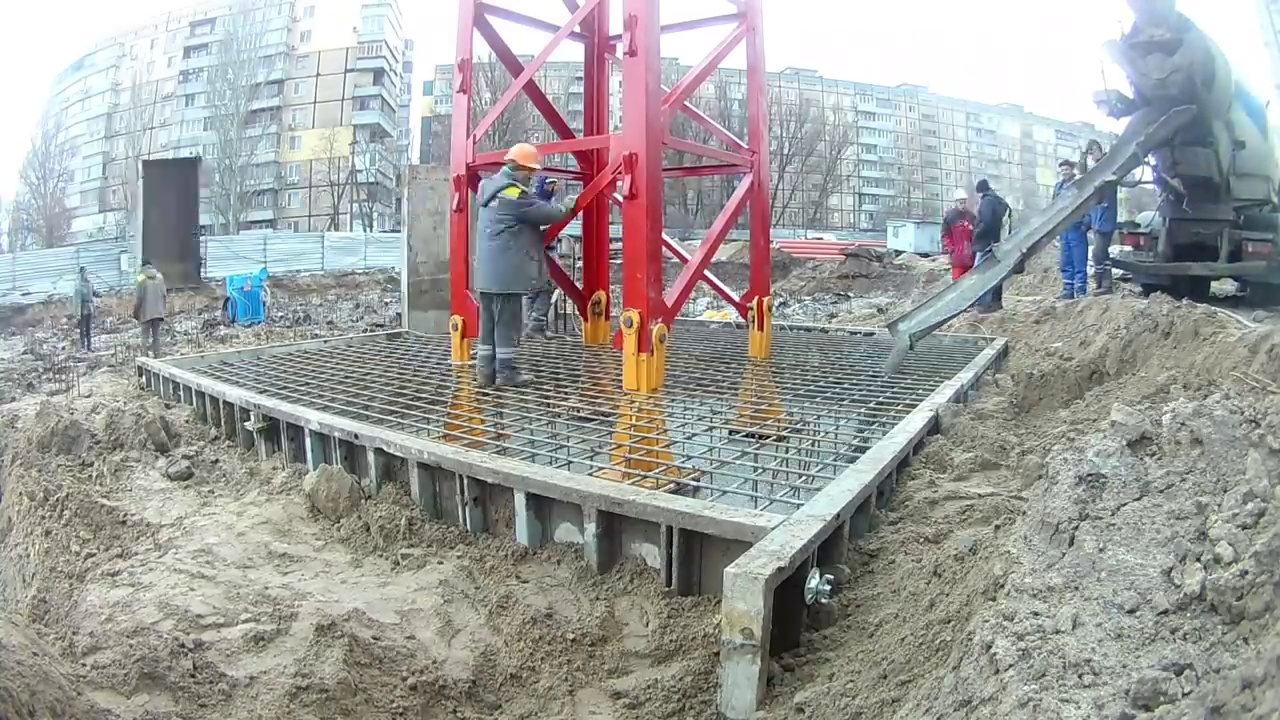helmet: (503, 144, 543, 171), (952, 188, 969, 201)
helmet-off: (1086, 138, 1107, 169), (1057, 160, 1077, 185), (974, 179, 994, 203), (138, 260, 156, 280), (76, 266, 91, 287)
helmet-on: (501, 143, 543, 193), (950, 187, 972, 220)
person: (470, 133, 568, 392), (1085, 137, 1122, 300), (1051, 160, 1090, 302), (974, 178, 1009, 313), (938, 187, 982, 284), (131, 261, 170, 364), (70, 265, 101, 352)
